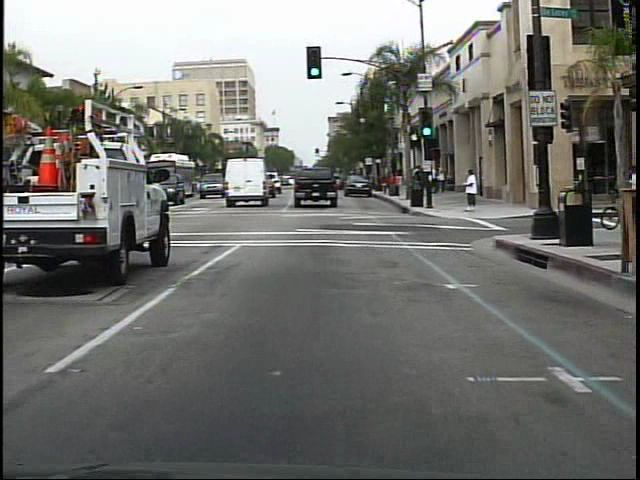car: (7, 134, 165, 295), (223, 155, 271, 208), (292, 164, 337, 207), (344, 172, 372, 196)
cat: (460, 164, 481, 211)
strada: (1, 208, 636, 474)
